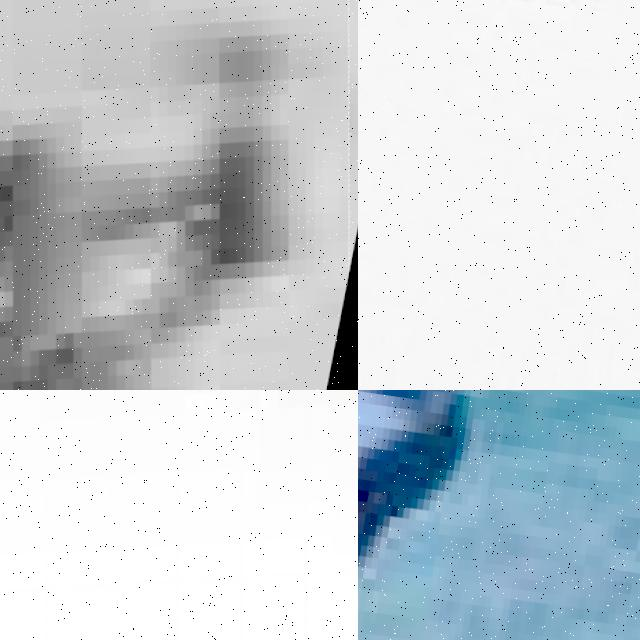0: (0, 0, 358, 390)
drone: (0, 390, 358, 640)
